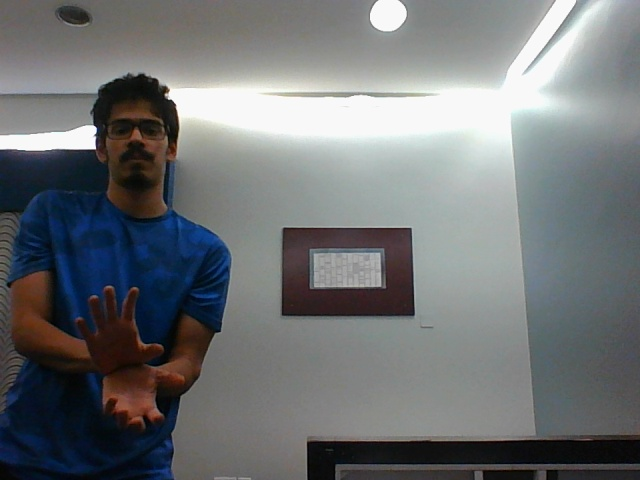blast: (71, 284, 195, 427)
